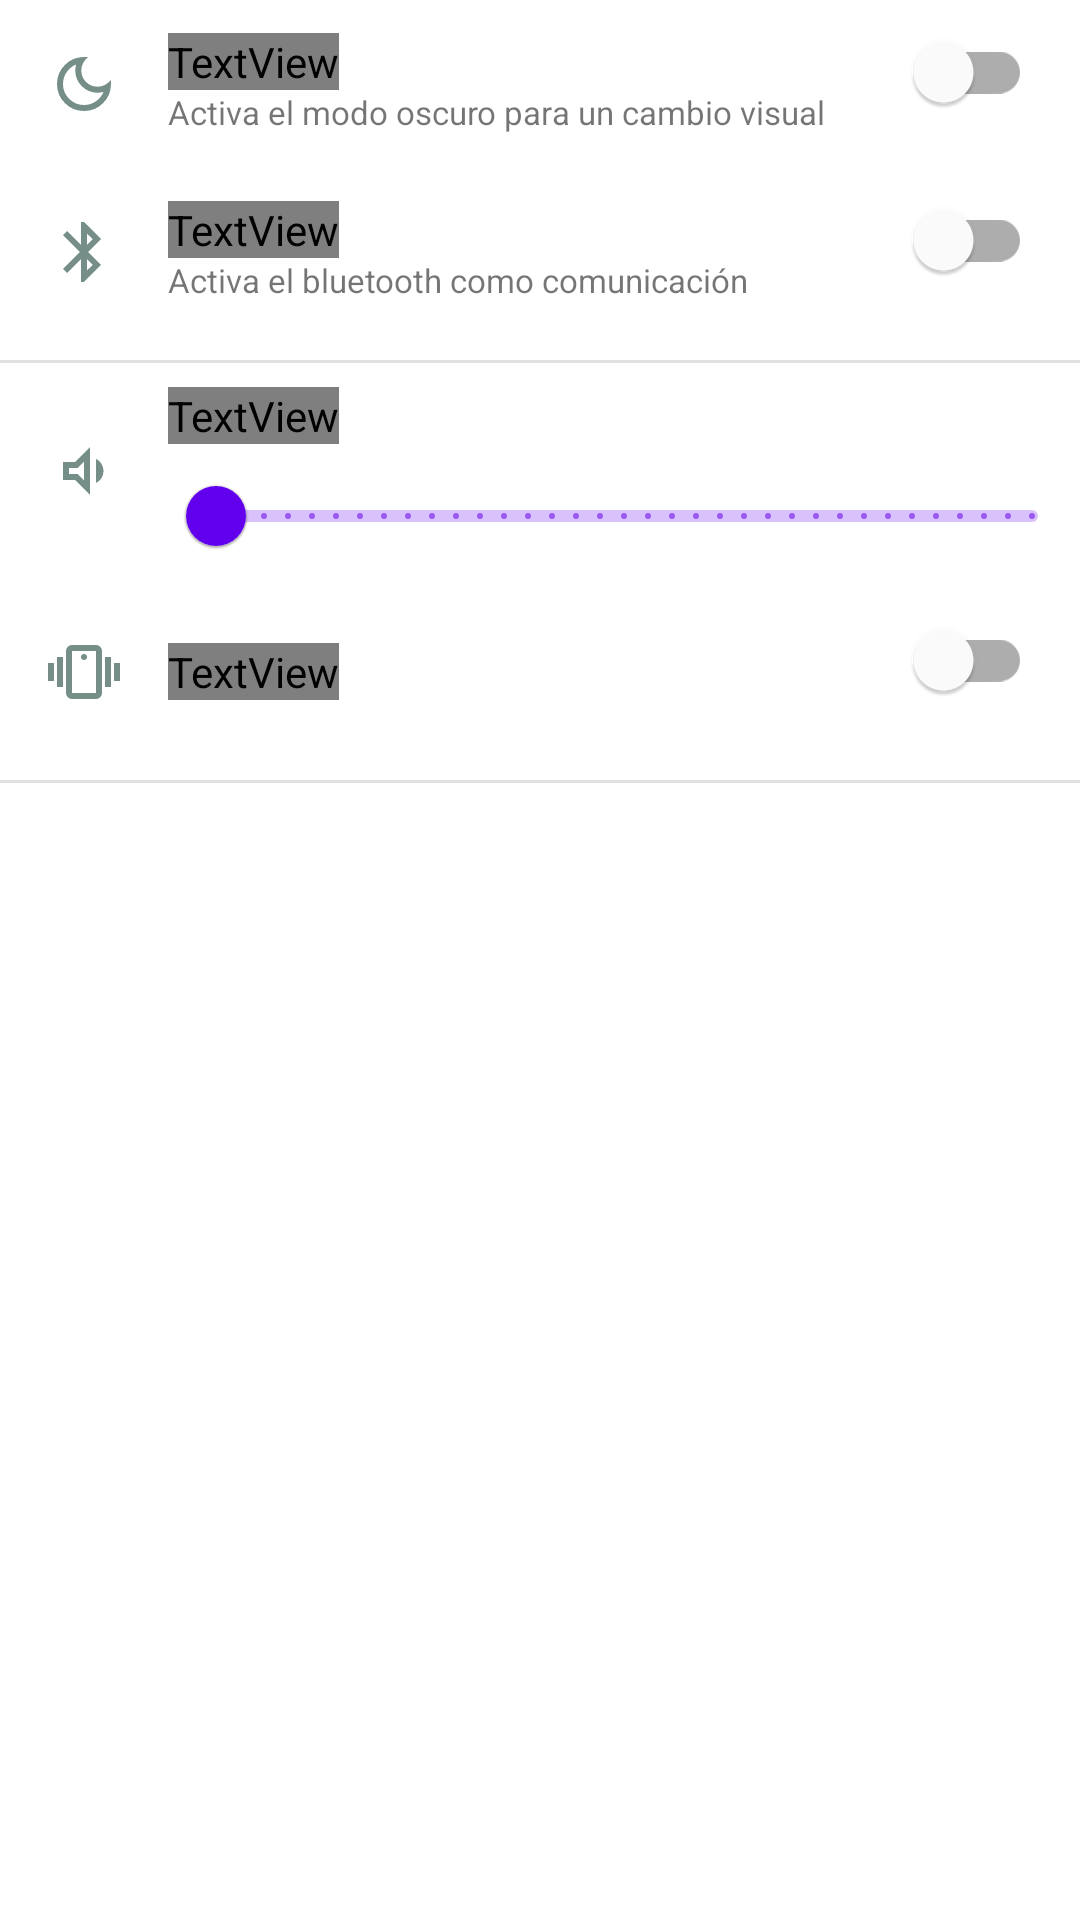

Locate icon controls on the screen. Image size 1080w x 1920h, boxes as [left=x1, top=y1, right=x2, bottom=y2].
vibration: [left=48, top=645, right=120, bottom=699]
volume: [left=63, top=447, right=104, bottom=495]
